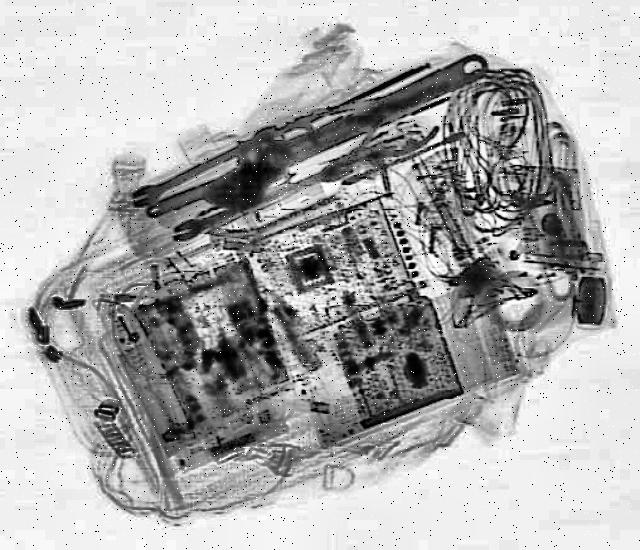Pliers: (310, 103, 446, 196)
Wrench: (241, 53, 495, 183), (128, 128, 282, 214), (166, 168, 330, 248)
